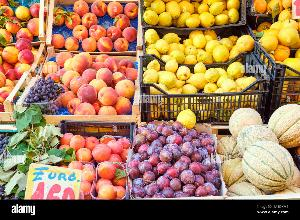lemon: (140, 24, 268, 104), (140, 0, 248, 30)
melon: (215, 109, 300, 205)
peach: (30, 56, 142, 116), (49, 134, 131, 206), (44, 1, 140, 51), (0, 1, 44, 105)
plum: (136, 116, 222, 202)
